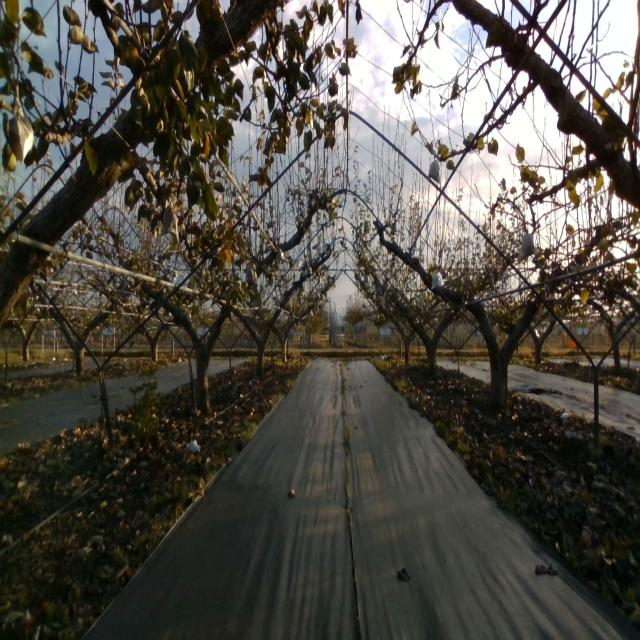pearbags: (7, 95, 35, 166), (160, 200, 179, 240), (518, 228, 536, 260), (428, 155, 441, 187), (430, 269, 446, 291), (244, 265, 256, 285)
